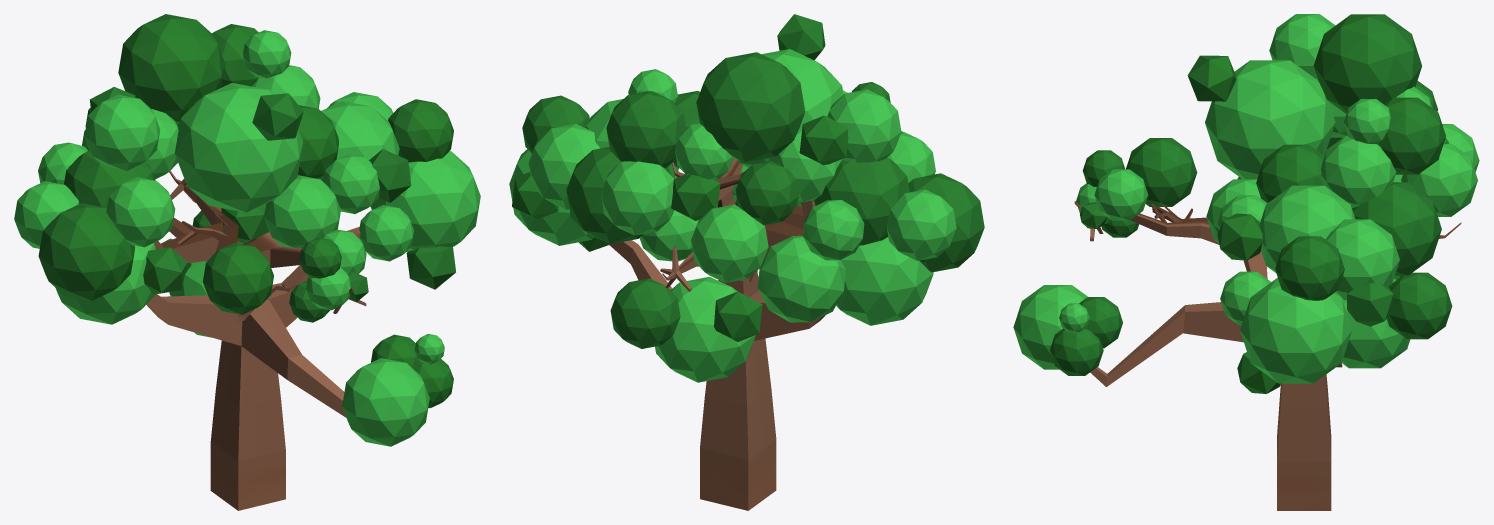
The model's file is arbol_xochi_1.fbx.
3 renders of one model, left to right at view 1: azimuth 30°, elevation 25°; view 2: azimuth 150°, elevation 25°; view 3: azimuth 270°, elevation 25°, orthographic. The views are drawn at different scales.
Parts seen in each view (by area): view 1: Cube.001; view 2: Cube.001; view 3: Cube.001.
Boxes of the visible parts, x1,y1,x2,y2 form: Cube.001: (14,14,480,510); Cube.001: (509,14,984,510); Cube.001: (1013,14,1479,510).
Size of the model in its own units: 1843 by 1863 by 1707.
Materials: 50 (50 with a texture image).
